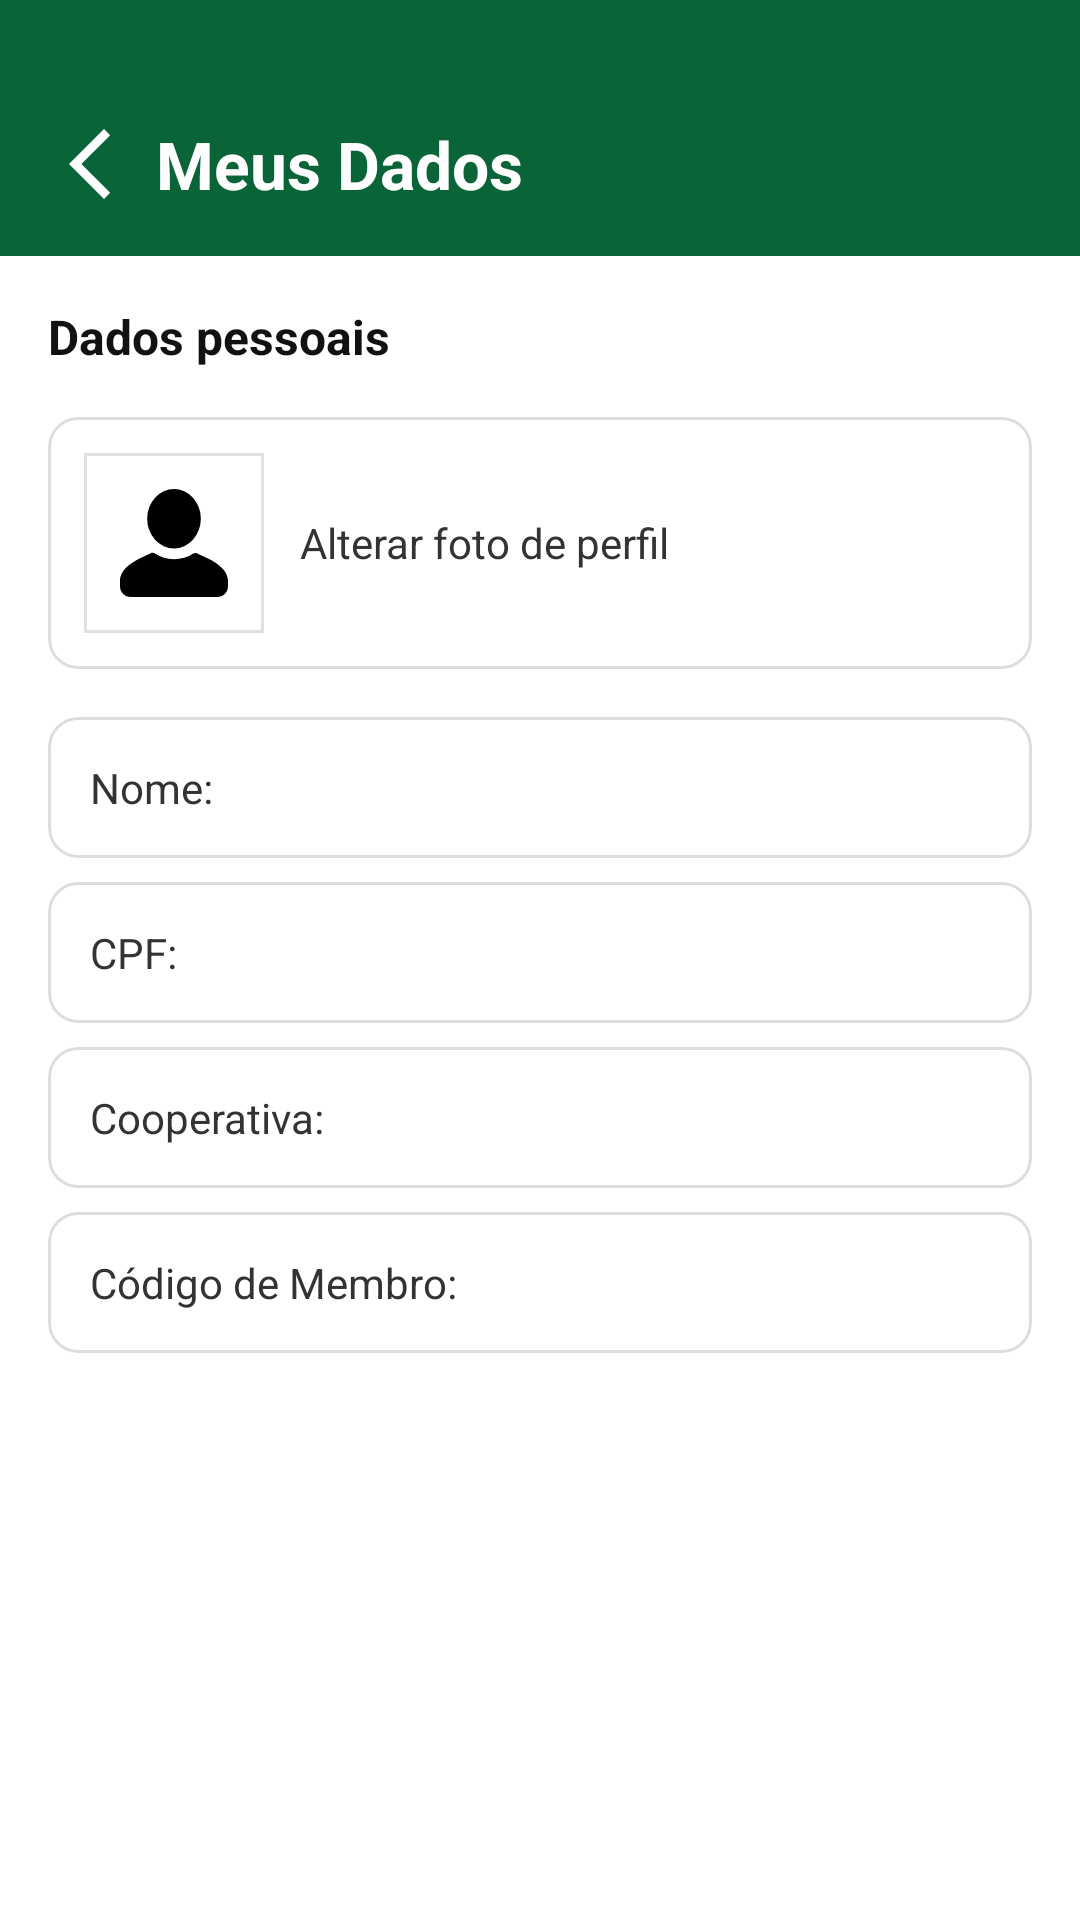

Icon click points for this 1080x1920 phone screenshot, format point (x, y):
Voltar: point (89, 164)
